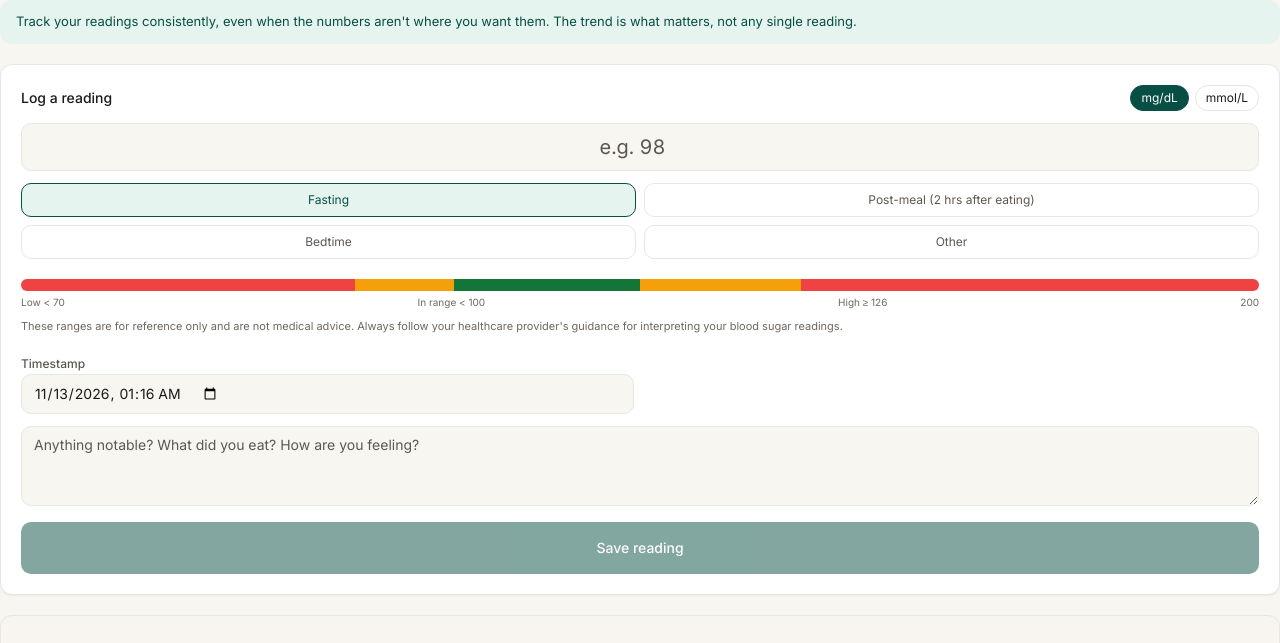
it: BloodSugarTab, newly entered readings › announces a low reading with role=alert and the medication warning
This screenshot has width=1280, height=643.
Type "60" into the number field with placeholder "e.g. 98" at (640,146), box x1=21 y1=122 x2=1259 y2=170
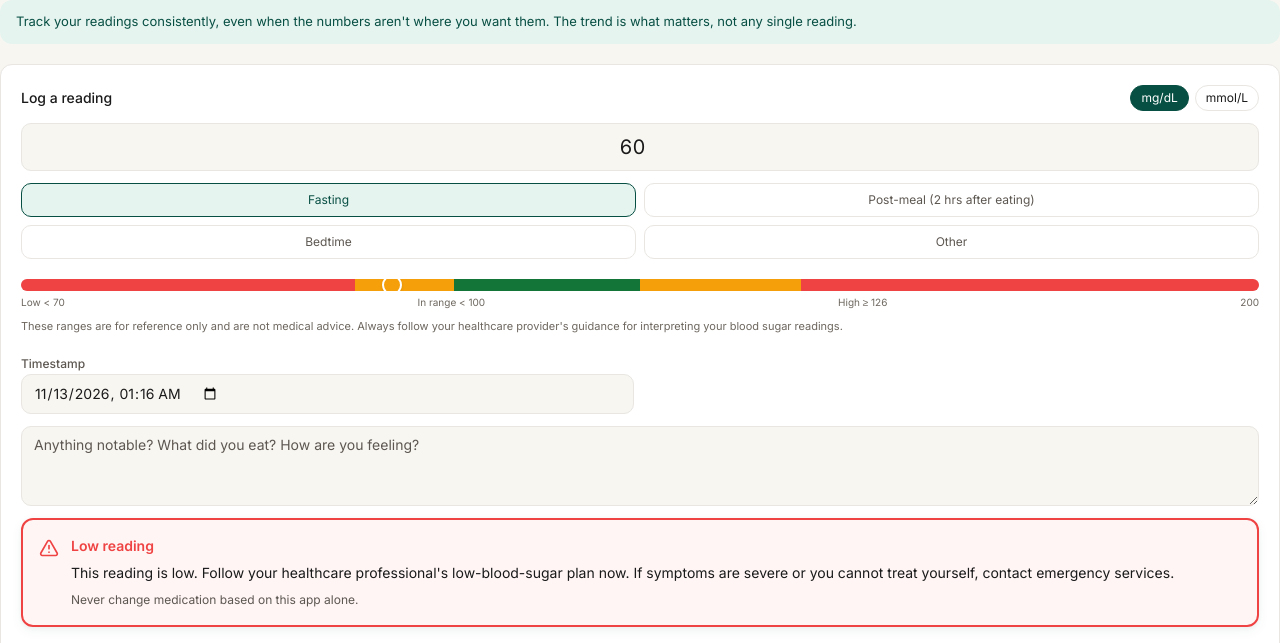
Expected: the message shows "This reading is low. Follow your healthcare professional's low-blood-sugar plan now. If symptoms are severe or you cannot treat yourself, contact emergency serv", x1=71 y1=564 x2=1174 y2=581
Expected: the message shows "Never change medication based on this app alone.", x1=71 y1=592 x2=358 y2=607
